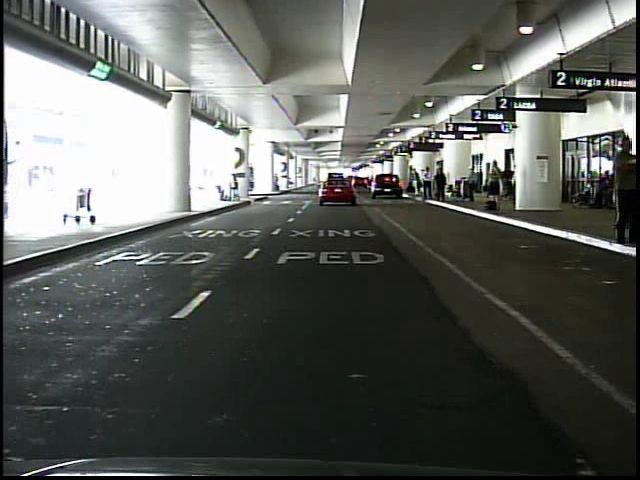person: (607, 137, 640, 254), (591, 165, 615, 206), (486, 161, 502, 212), (434, 168, 448, 204), (467, 166, 480, 204), (424, 165, 435, 201), (225, 173, 238, 202), (408, 167, 420, 198), (272, 173, 281, 190)
